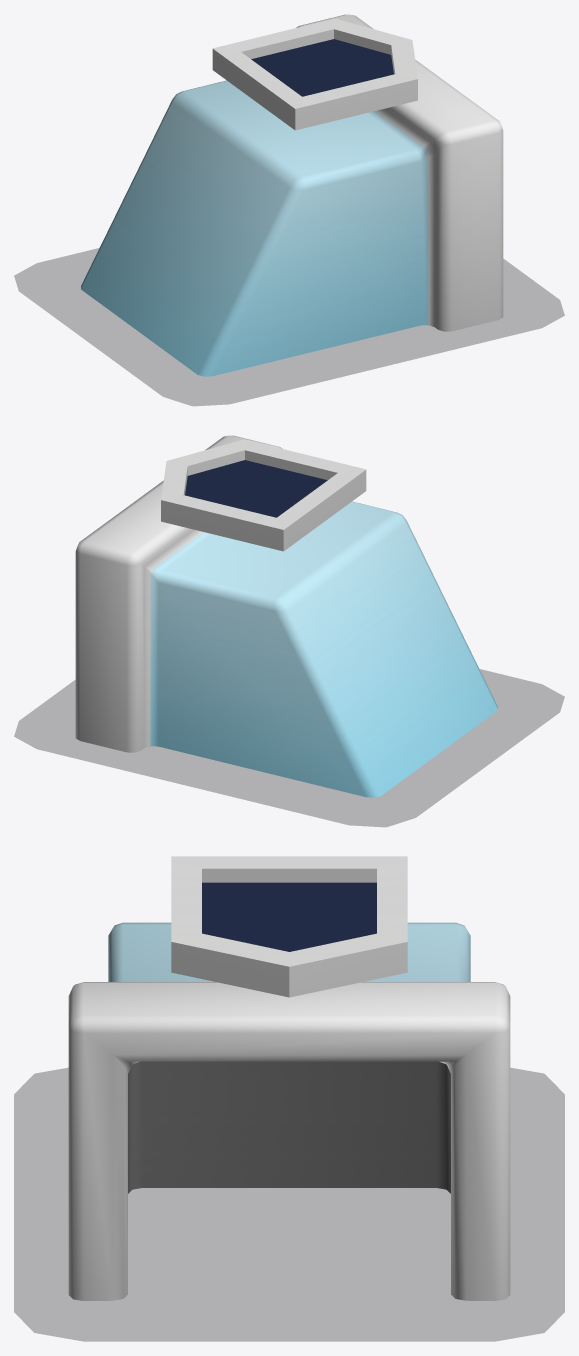
The model's file is 01_Garage.fbx.
The picture shows the model from 3 angles, top to bottom: view 1: azimuth 30°, elevation 25°; view 2: azimuth 150°, elevation 25°; view 3: azimuth 270°, elevation 25°; orthographic projection. The views are drawn at different scales.
Parts seen in each view (by area): view 1: 01_Gara.001, 01_Shadow.001, 01_Sign.001; view 2: 01_Gara.001, 01_Shadow.001, 01_Sign.001; view 3: 01_Gara.001, 01_Shadow.001, 01_Sign.001.
Boxes of the visible parts, left/top/right/bottom form: 01_Gara.001: left=81, top=14, right=503, bottom=376; 01_Shadow.001: left=14, top=248, right=564, bottom=405; 01_Sign.001: left=212, top=18, right=417, bottom=130; 01_Gara.001: left=75, top=435, right=497, bottom=797; 01_Shadow.001: left=14, top=669, right=564, bottom=826; 01_Sign.001: left=161, top=439, right=366, bottom=551; 01_Gara.001: left=68, top=922, right=510, bottom=1300; 01_Shadow.001: left=14, top=1068, right=564, bottom=1341; 01_Sign.001: left=171, top=856, right=407, bottom=997.
Bounding box in the file's own units: 364 × 197 × 306.
